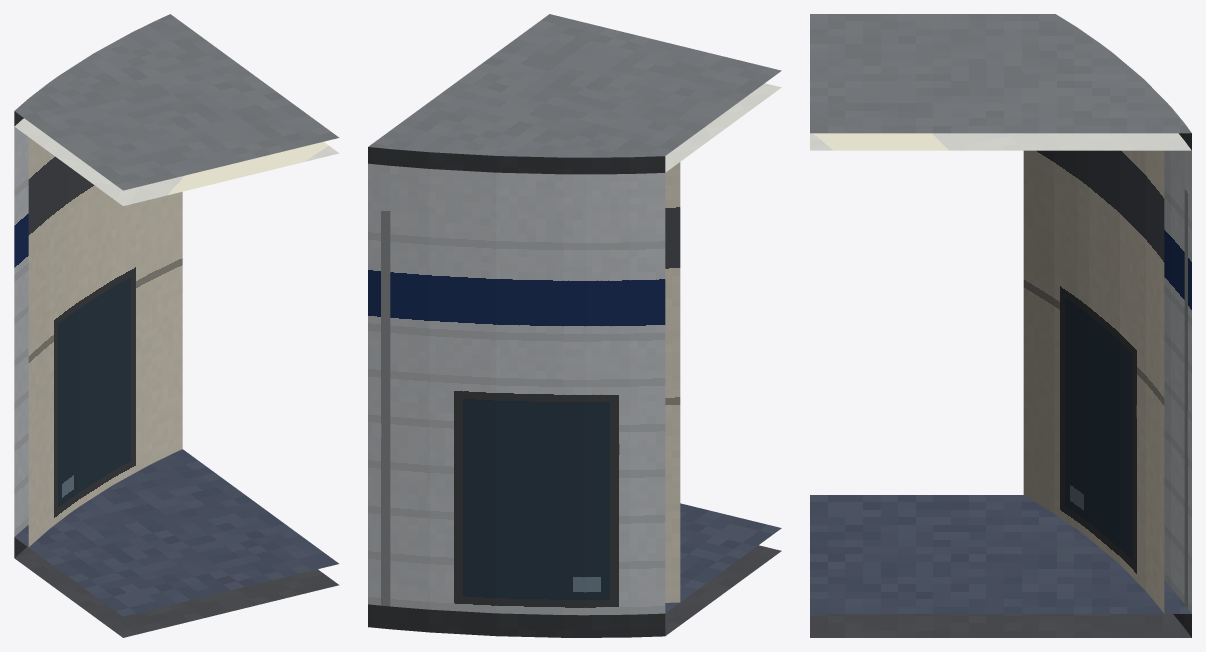
Rendered from airport_jet_bridge_turn_c2.obj.
3 renders of one model, left to right at view 1: azimuth 30°, elevation 25°; view 2: azimuth 150°, elevation 25°; view 3: azimuth 270°, elevation 25°, orthographic. The views are drawn at different scales.
Parts seen in each view (by area): view 1: airport_jet_bridge_turn_c2; view 2: airport_jet_bridge_turn_c2; view 3: airport_jet_bridge_turn_c2.
Part boxes in pixels (x1=…): airport_jet_bridge_turn_c2: x1=14, y1=14, x2=339, y2=637; airport_jet_bridge_turn_c2: x1=368, y1=14, x2=781, y2=637; airport_jet_bridge_turn_c2: x1=810, y1=14, x2=1191, y2=637.
Bounding box in the file's own units: 1 × 1.98 × 1.35.
